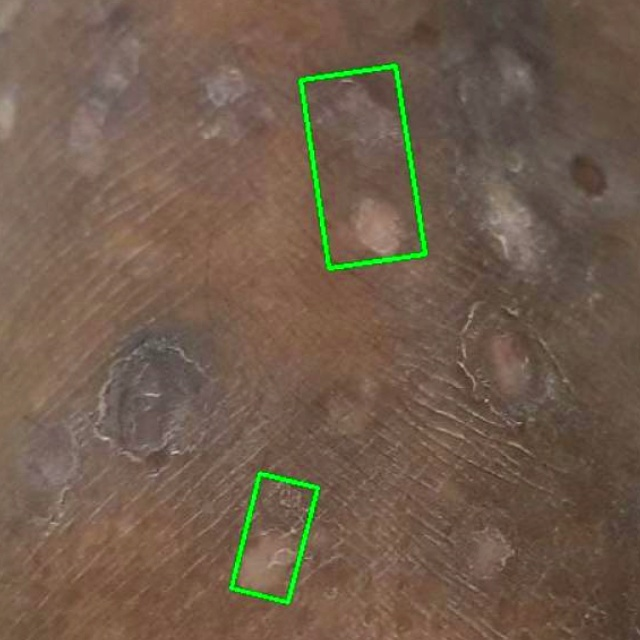Contact Dermatitis: (301, 64, 425, 268), (231, 473, 317, 602)
